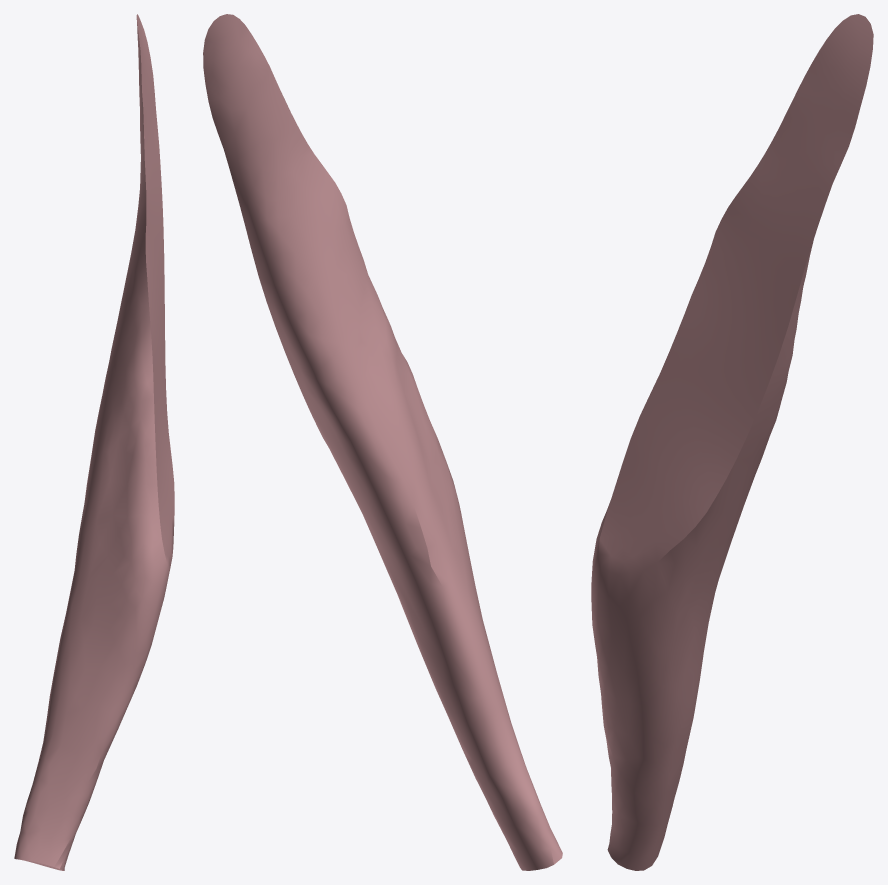
The model's file is fma297804_mm1855.glb.
The picture shows the model from 3 angles, left to right: view 1: azimuth 30°, elevation 25°; view 2: azimuth 150°, elevation 25°; view 3: azimuth 270°, elevation 25°; orthographic projection. The views are drawn at different scales.
Parts seen in each view (by area): view 1: FMA297804_MM1855; view 2: FMA297804_MM1855; view 3: FMA297804_MM1855.
Part boxes in pixels (left/top/right/bottom): FMA297804_MM1855: left=14, top=14, right=174, bottom=870; FMA297804_MM1855: left=203, top=14, right=562, bottom=870; FMA297804_MM1855: left=591, top=14, right=873, bottom=870.
Size of the model in its own units: 0.0278 by 0.0902 by 0.024.
